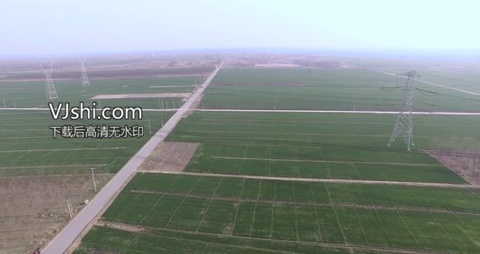tower_body: (384, 66, 434, 154)
tower_foot: (387, 126, 417, 151)
tower_head: (390, 70, 429, 86)
